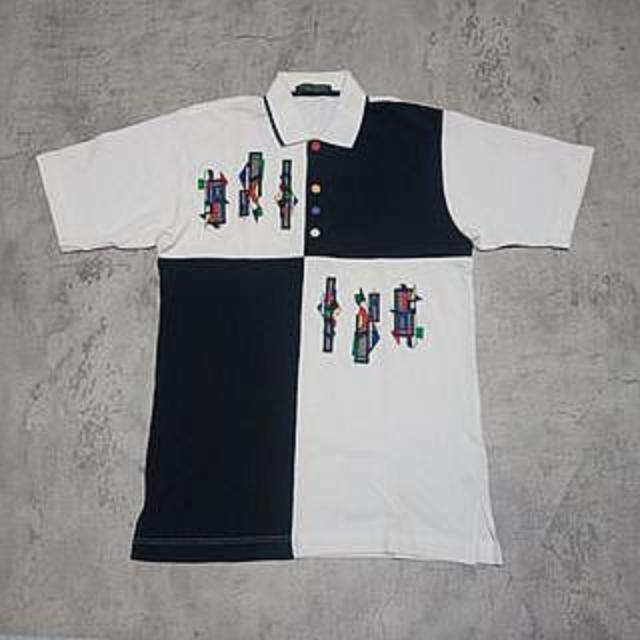T_SHIRT: (21, 62, 609, 581)
